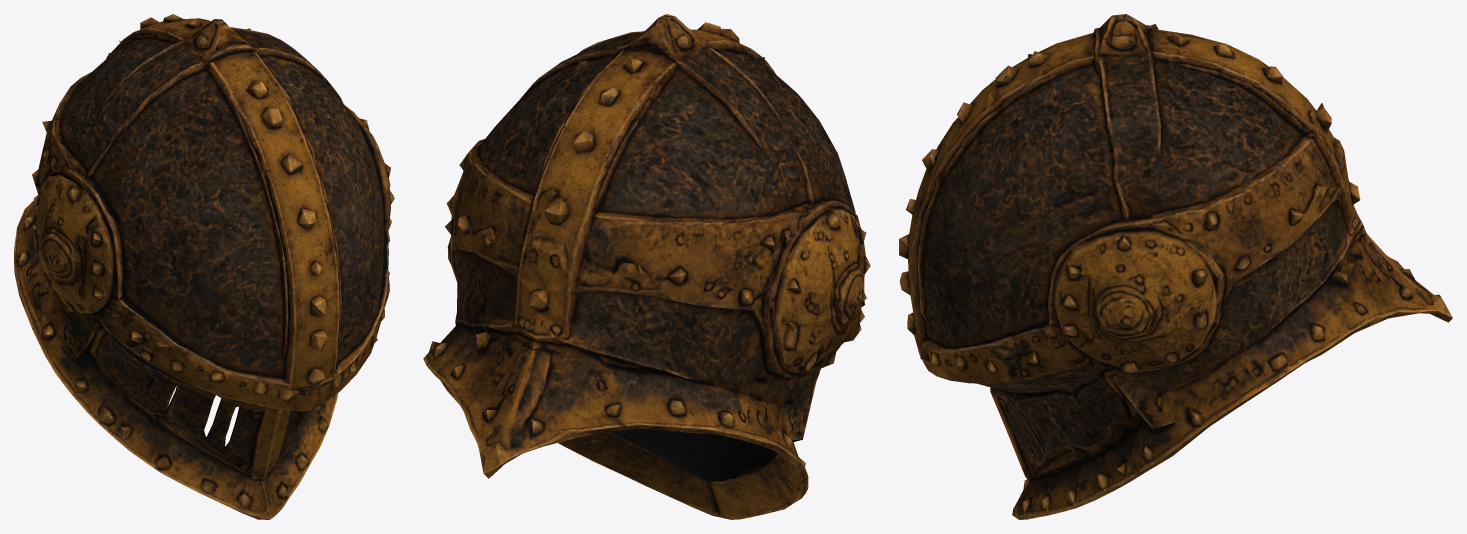
3 renders of one model, left to right at view 1: azimuth 30°, elevation 25°; view 2: azimuth 150°, elevation 25°; view 3: azimuth 270°, elevation 25°, orthographic. The views are drawn at different scales.
Visible parts, largest first — view 1: geometry_0; view 2: geometry_0; view 3: geometry_0.
Part boxes in pixels (x1=…): geometry_0: x1=14, y1=14, x2=394, y2=519; geometry_0: x1=423, y1=14, x2=870, y2=519; geometry_0: x1=899, y1=14, x2=1452, y2=519.
Size of the model in its own units: 0.7568 by 0.9963 by 1.
1 material, 1 textured.
